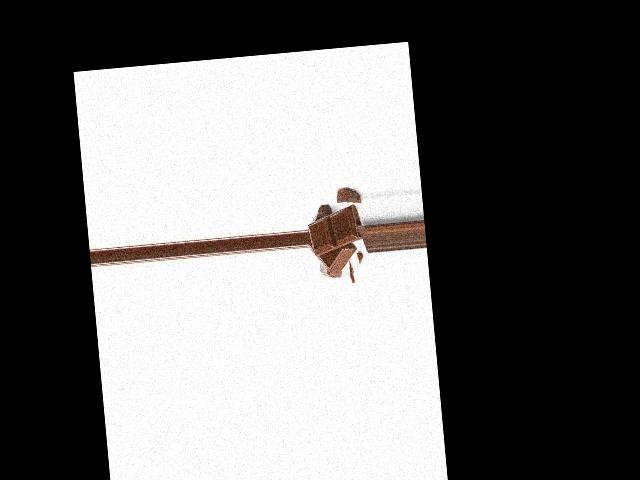chocolate: (308, 206, 362, 256)
